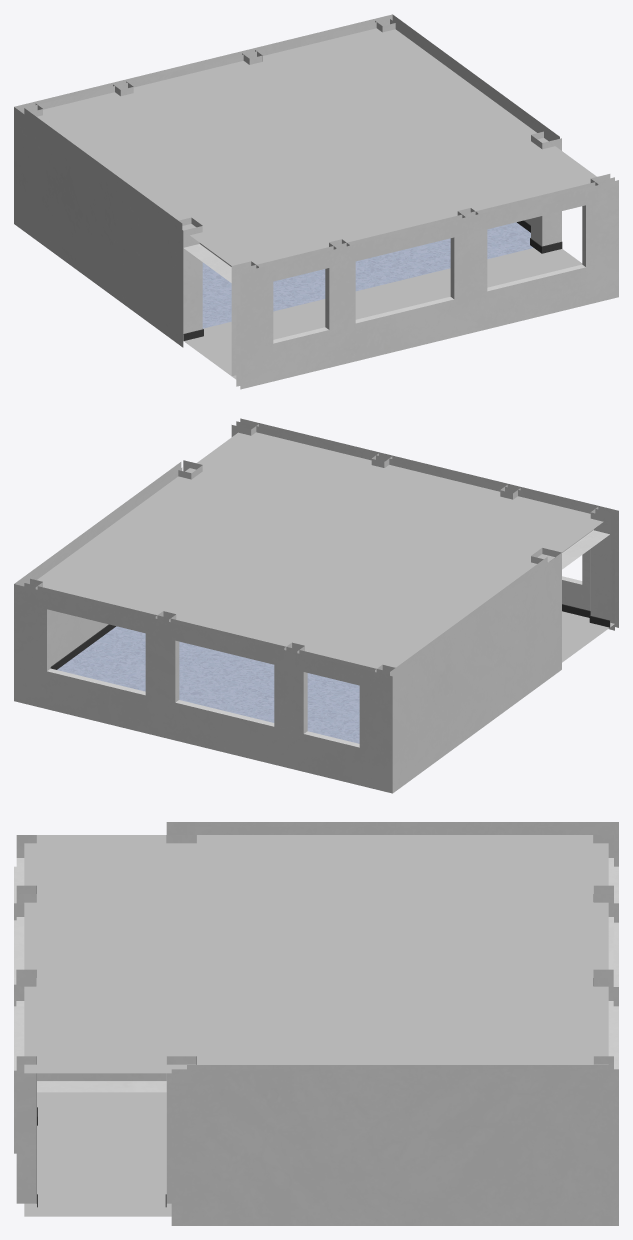
Rendered from SM_ClassroomMesh_01.fbx.
The picture shows the model from 3 angles, top to bottom: view 1: azimuth 30°, elevation 25°; view 2: azimuth 150°, elevation 25°; view 3: azimuth 270°, elevation 25°; orthographic projection. The views are drawn at different scales.
Visible parts, largest first — view 1: SM_ClassroomMesh_01_LOD0; view 2: SM_ClassroomMesh_01_LOD0; view 3: SM_ClassroomMesh_01_LOD0.
Boxes of the visible parts, x1=… form: SM_ClassroomMesh_01_LOD0: x1=14, y1=14, x2=618, y2=389; SM_ClassroomMesh_01_LOD0: x1=14, y1=418, x2=618, y2=793; SM_ClassroomMesh_01_LOD0: x1=14, y1=822, x2=618, y2=1225.
Size of the model in its own units: 1150 by 1190 by 340.
